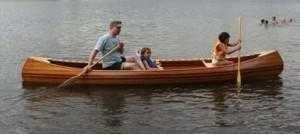kayak: (17, 52, 286, 87)
